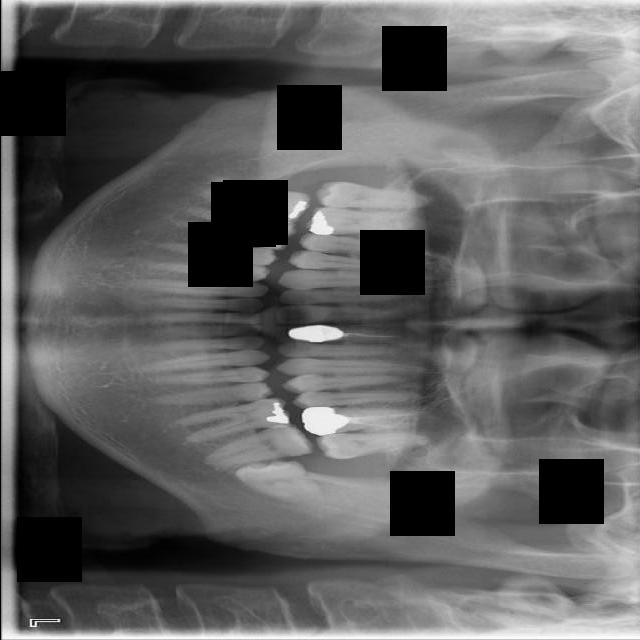52: (241, 394, 292, 436), (299, 403, 348, 439), (260, 191, 309, 223), (276, 324, 343, 346), (303, 206, 353, 235)
73: (342, 404, 437, 433), (330, 325, 405, 343)
BioHorizons Implant: (316, 432, 433, 460)
Biomet 3i Implant: (232, 458, 326, 506)
Blue Sky Bio Implant: (198, 420, 314, 471)
Caries: (314, 180, 434, 209)
Implant: (198, 174, 311, 227)
